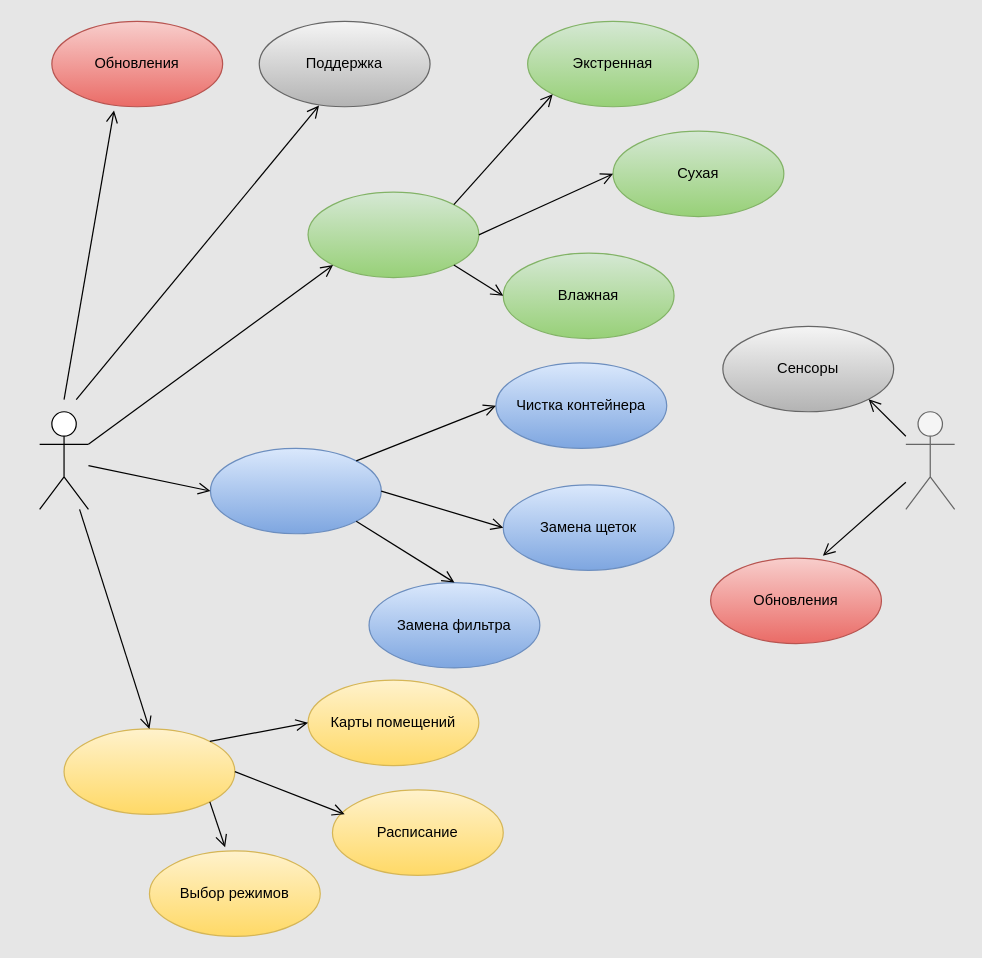
Some shapes in this 982 by 958 pixel diagram are drawn without their labels. Each missing label, with the centre of its shape:
Настройка: the point at 149,771
Обслуживание: the point at 295,490
Пользватель: the point at 63,460
Пылесос: the point at 930,460
Уборка: the point at 393,234
